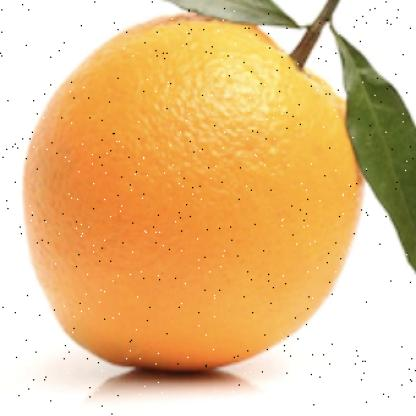fresh: (23, 16, 365, 370)
